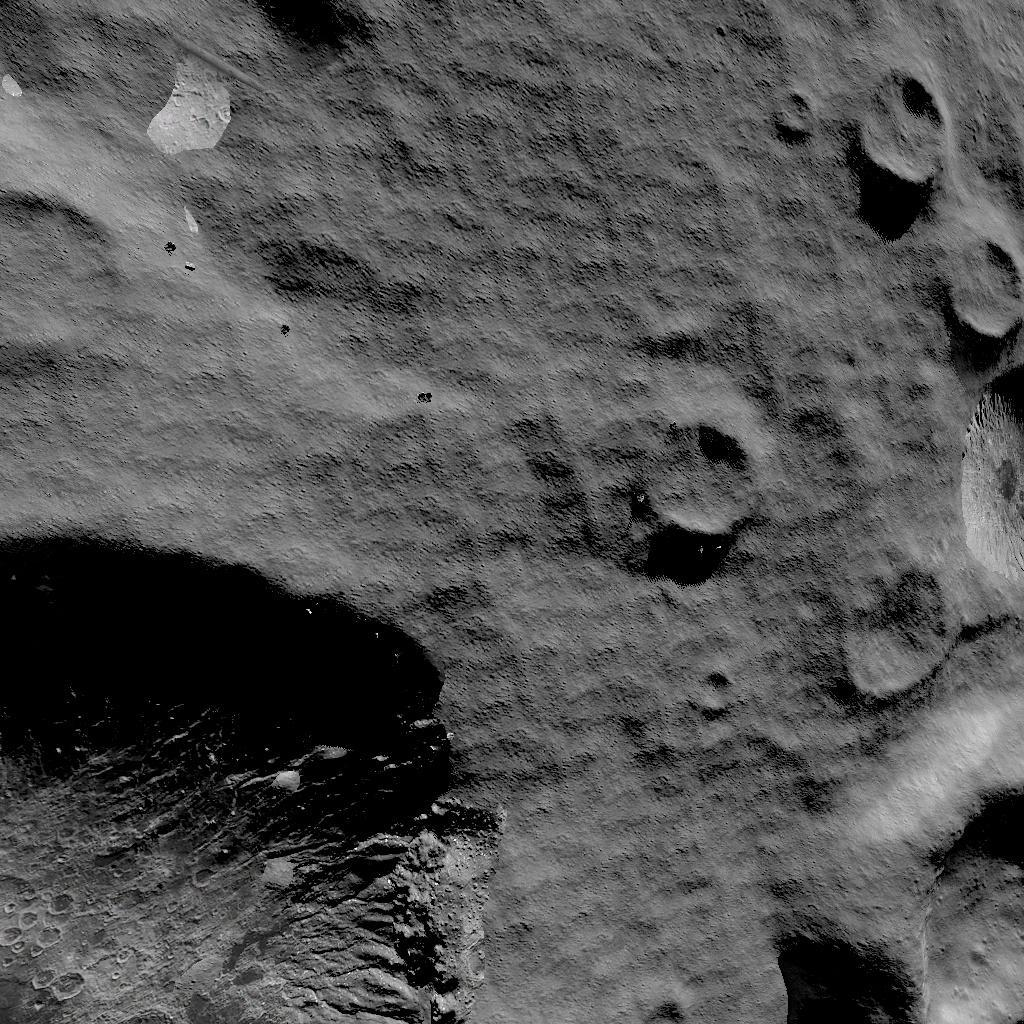Boulders: (145, 62, 234, 160)
Crater: (0, 516, 500, 1024), (819, 362, 1024, 702), (803, 744, 1024, 1024), (0, 180, 117, 382), (639, 418, 762, 552), (837, 68, 949, 202), (933, 240, 1024, 356), (763, 86, 820, 148)
Plan surface: (133, 178, 616, 498), (515, 760, 783, 982), (387, 0, 743, 153)
